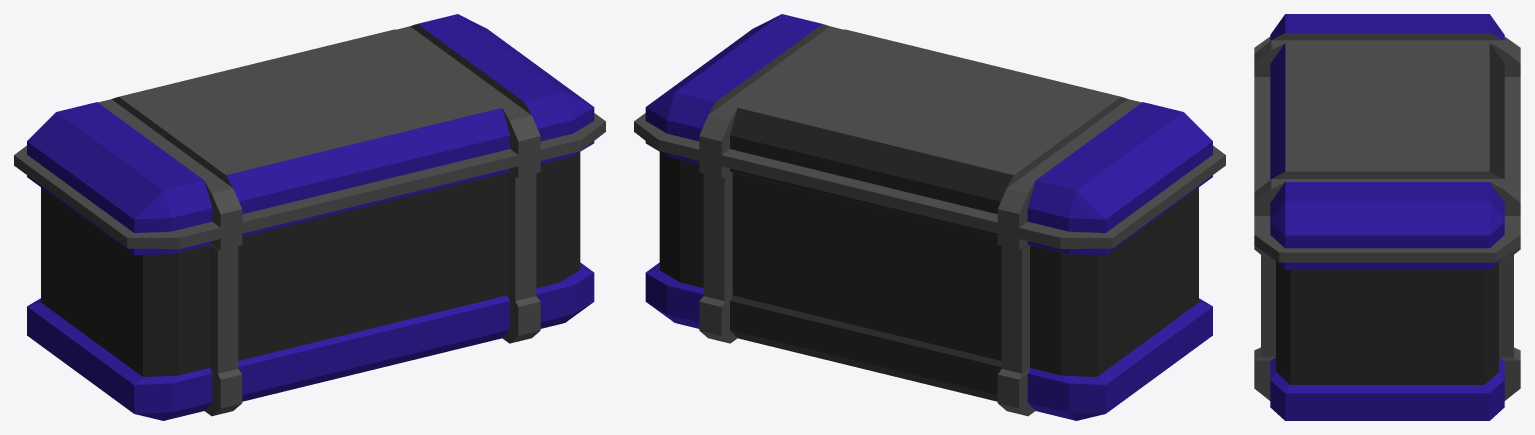
The model's file is Crate1.fbx.
3 renders of one model, left to right at view 1: azimuth 30°, elevation 25°; view 2: azimuth 150°, elevation 25°; view 3: azimuth 270°, elevation 25°, orthographic. The views are drawn at different scales.
Visible parts, largest first — view 1: Cube.003; view 2: Cube.003; view 3: Cube.003.
Part boxes in pixels (box(x1,y1,x2,y2)): Cube.003: box(14, 14, 605, 420); Cube.003: box(634, 14, 1225, 420); Cube.003: box(1254, 14, 1520, 420).
Bounding box in the file's own units: 450 × 207 × 227.
